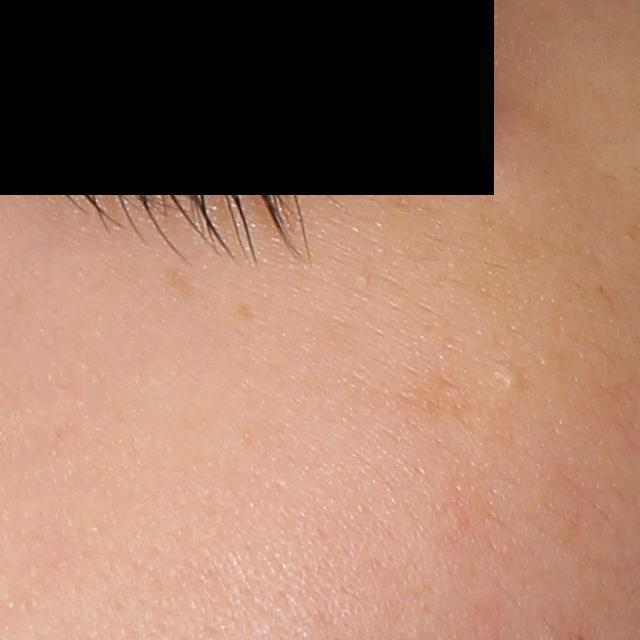comedo: (498, 367, 522, 390)
melasma: (367, 370, 470, 425), (230, 302, 253, 321)
